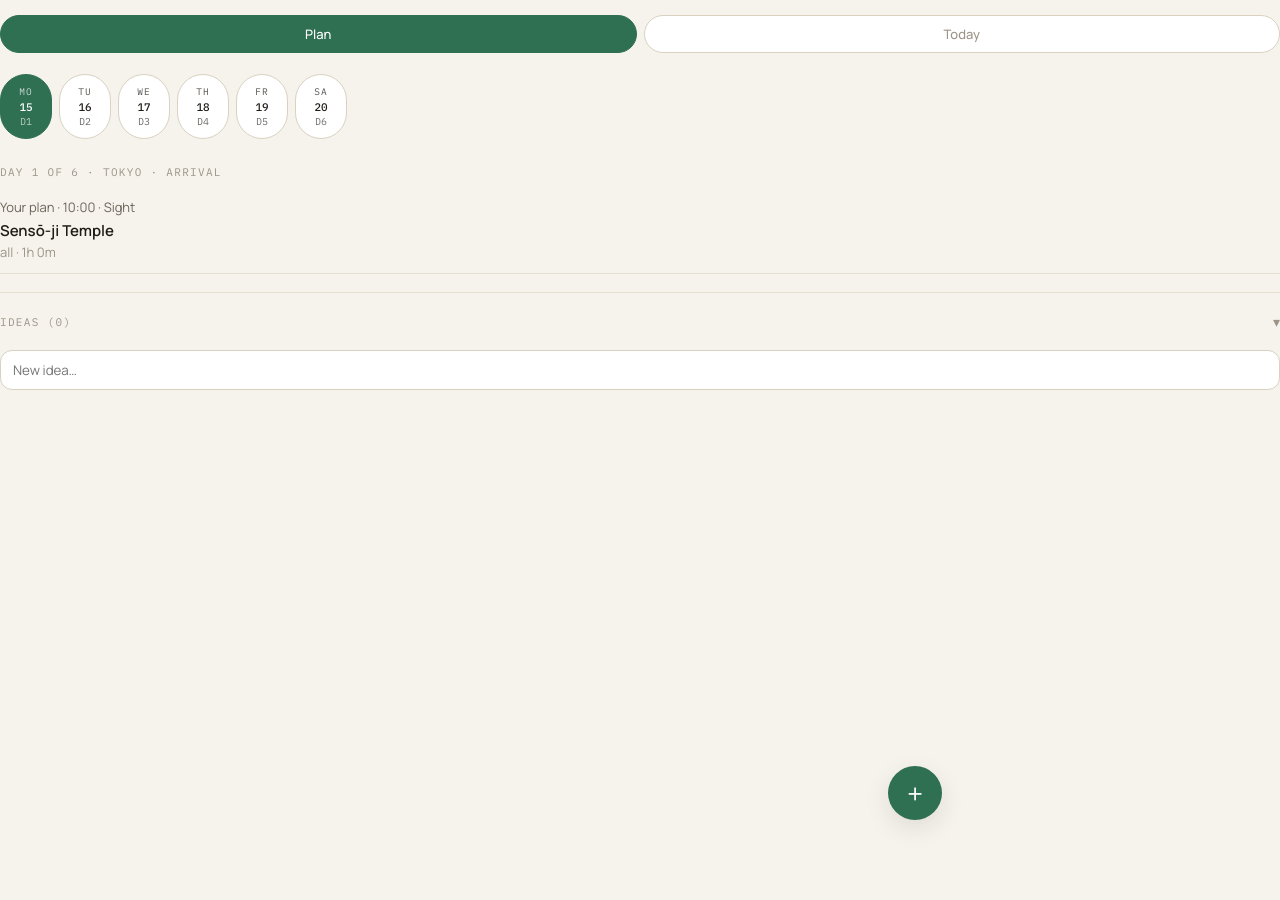
ItineraryTab — View Details › closing the View returns to the same itinerary day
The width and height of the screenshot is (1280, 900).
Click the button with aria-label "Open Sensō-ji Temple".
click(31, 207)  # box [0,186,1279,274]
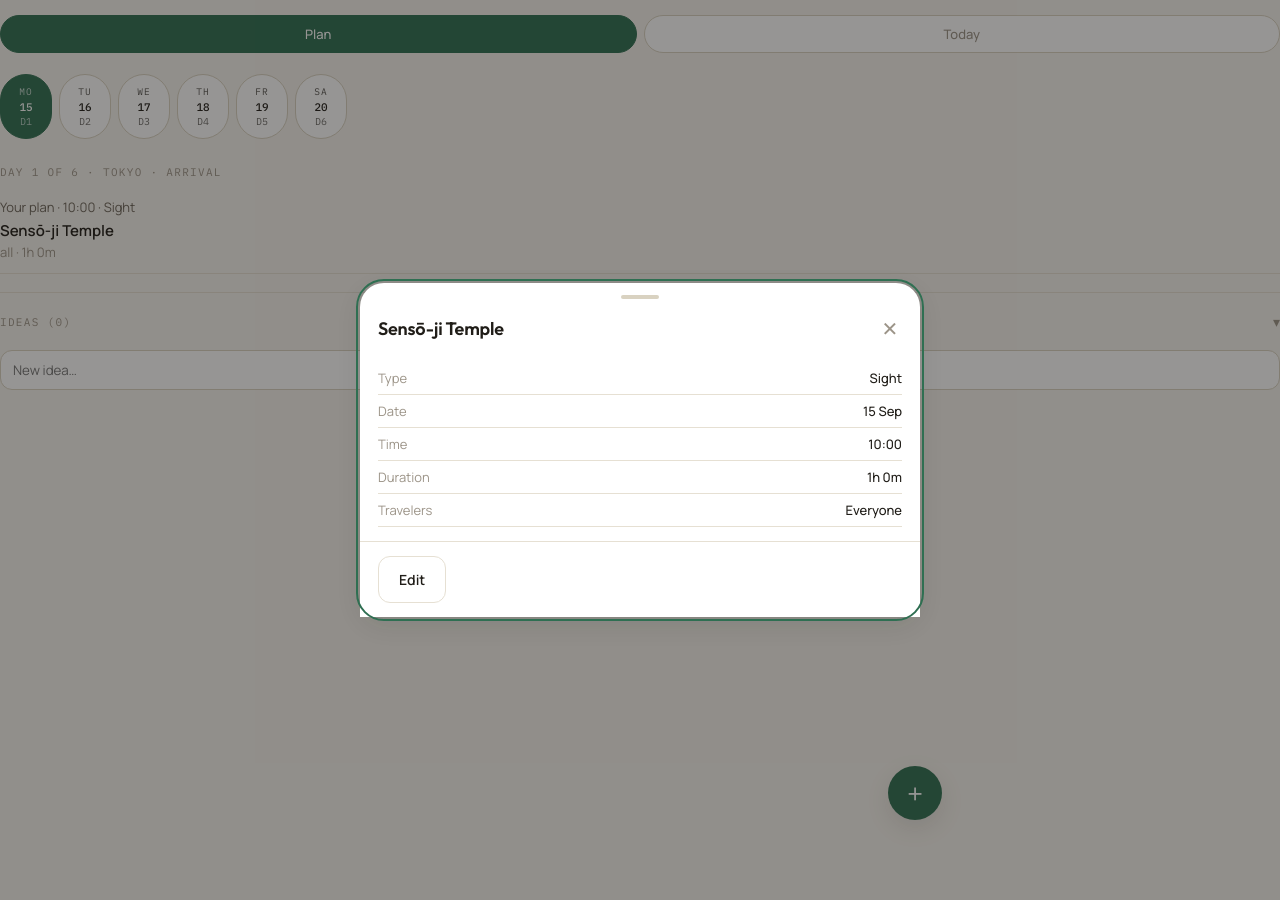
Click the button named "Close".
click(890, 328)  # box [868,306,912,350]
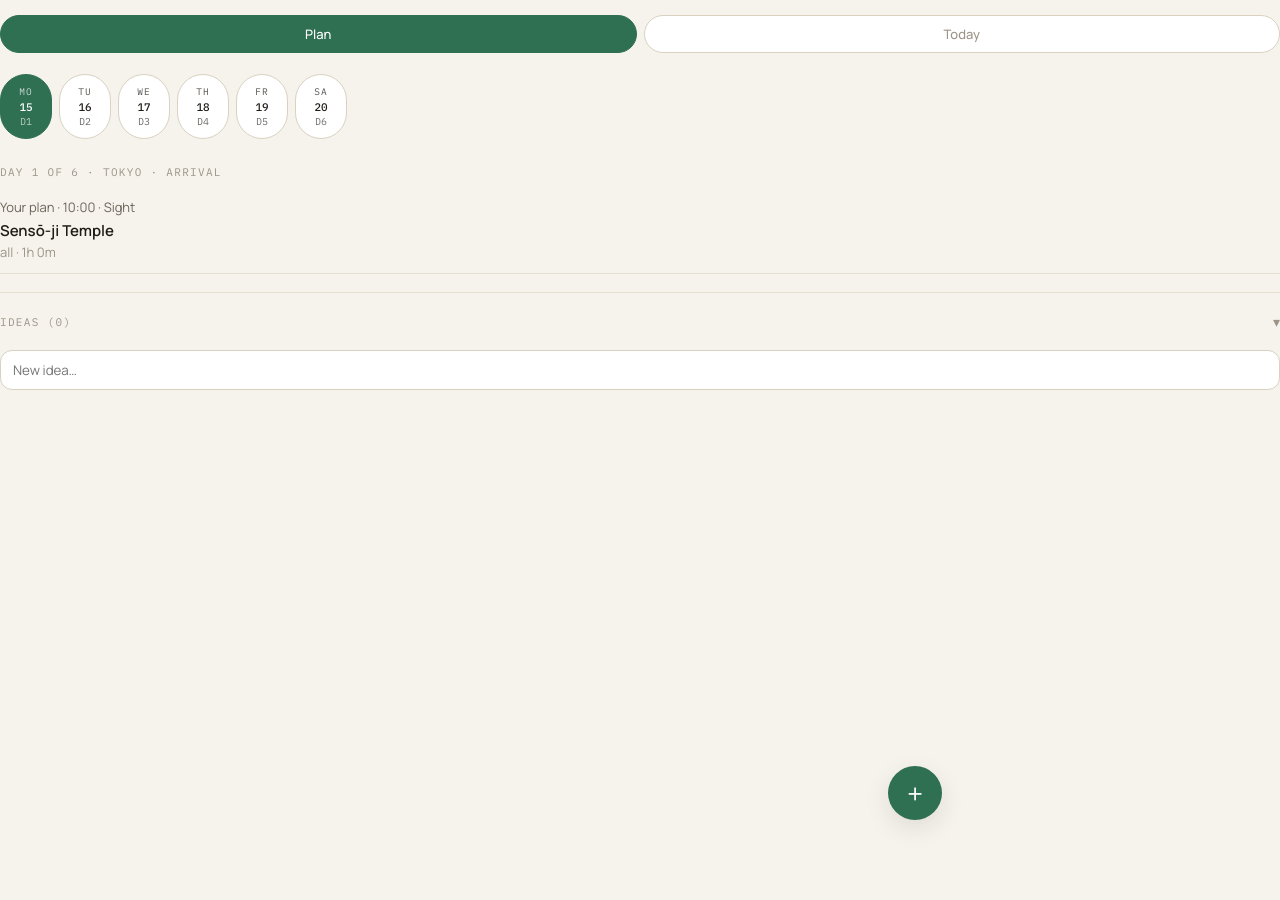
Check: the button with aria-label "Open Sensō-ji Temple" is shown, box [0,186,1279,274]
Check: the dialog is gone
